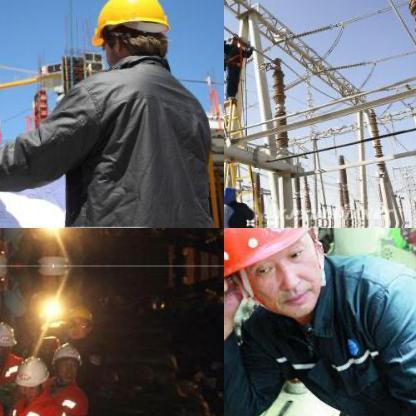Helmet: (224, 228, 330, 319), (87, 0, 178, 73), (14, 354, 52, 394), (48, 342, 82, 386), (63, 304, 98, 340), (0, 319, 16, 360), (224, 184, 240, 205)
